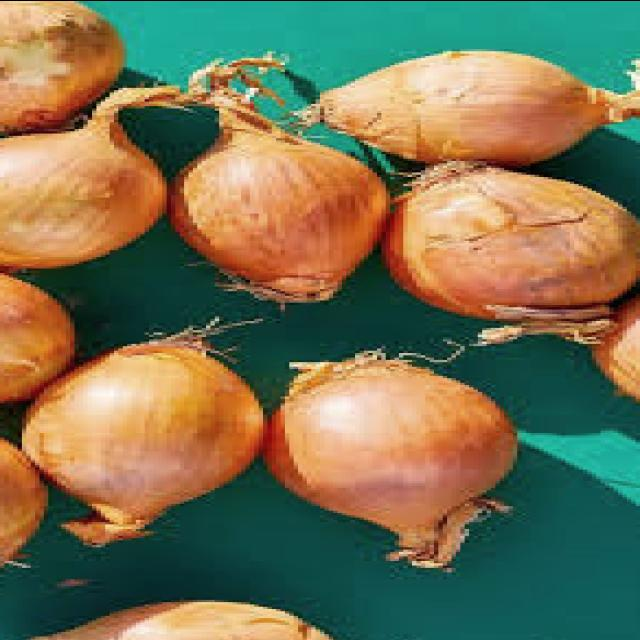Onion: (257, 344, 544, 584), (148, 59, 386, 312), (31, 325, 265, 559), (280, 46, 640, 181), (407, 156, 640, 359), (0, 82, 184, 288), (0, 0, 127, 156), (0, 270, 83, 412)
